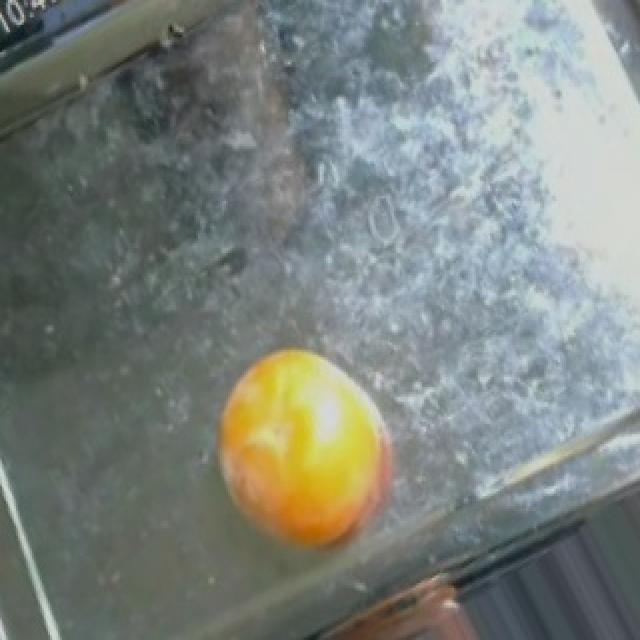Fruit: (196, 338, 418, 576), (312, 588, 512, 637)
